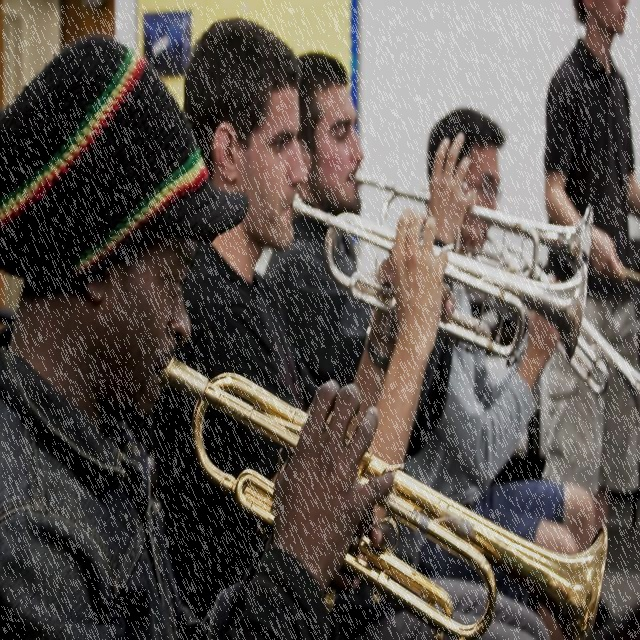pessoa: (140, 14, 552, 640), (146, 33, 484, 639), (398, 108, 596, 640), (262, 44, 478, 457), (534, 0, 640, 612)
